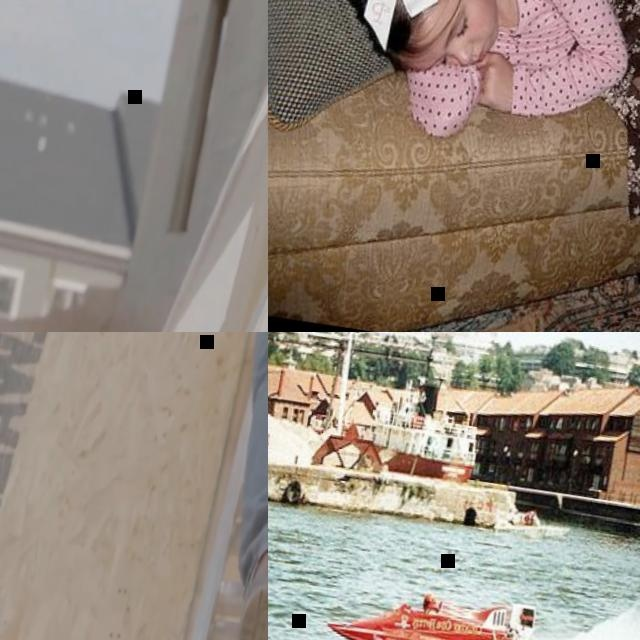Hardhat: (421, 593, 438, 610)
NO-Hardhat: (341, 0, 477, 73)
NO-Mask: (466, 0, 504, 67)
NO-Safety Vest: (489, 0, 617, 80), (268, 433, 273, 463)
Person: (301, 0, 640, 190), (150, 332, 268, 640), (420, 594, 439, 617)
